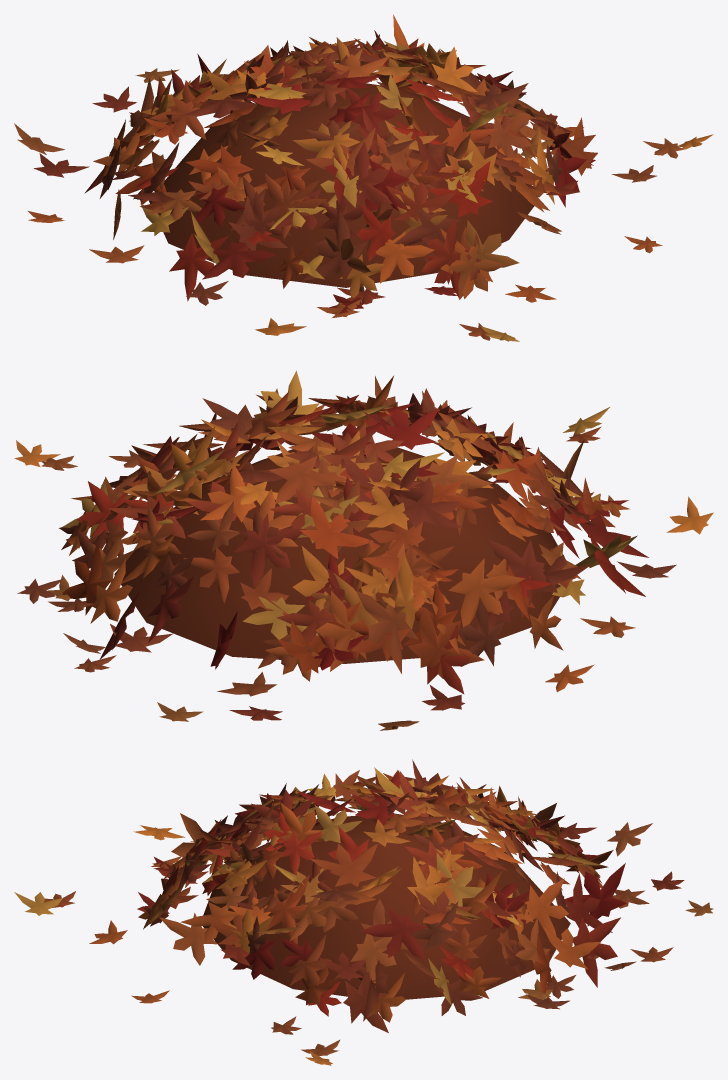
The model's file is leaf_pile.glb.
3 views of the same model, one above another, from view 1: azimuth 30°, elevation 25°; view 2: azimuth 150°, elevation 25°; view 3: azimuth 270°, elevation 25° (orthographic). The views are drawn at different scales.
Parts seen in each view (by area): view 1: LeafPile; view 2: LeafPile; view 3: LeafPile.
Part boxes in pixels (<box>): LeafPile: <box>14,14,713,341</box>; LeafPile: <box>14,370,713,730</box>; LeafPile: <box>14,759,713,1065</box>.
Size of the model in its own units: 2.5 by 0.6571 by 2.73.
